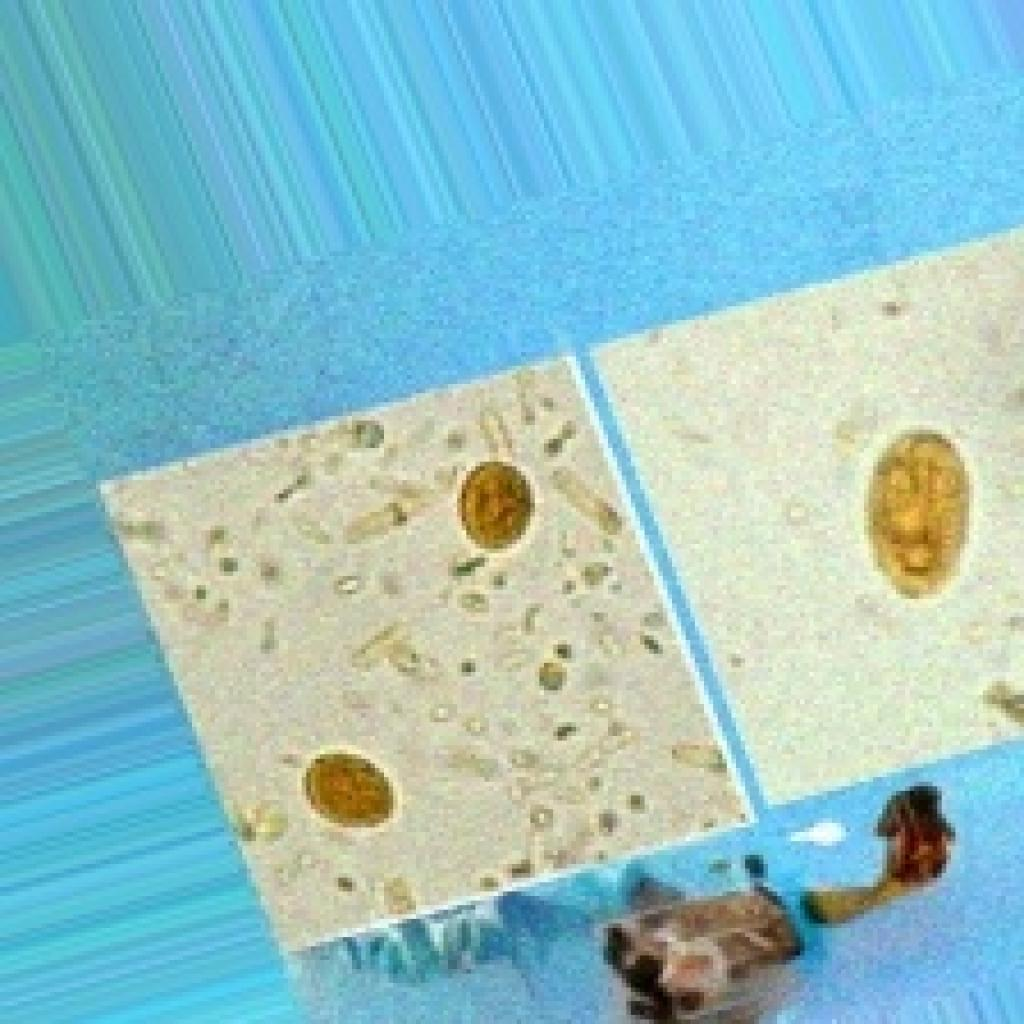Yeast: (72, 183, 1024, 973)
